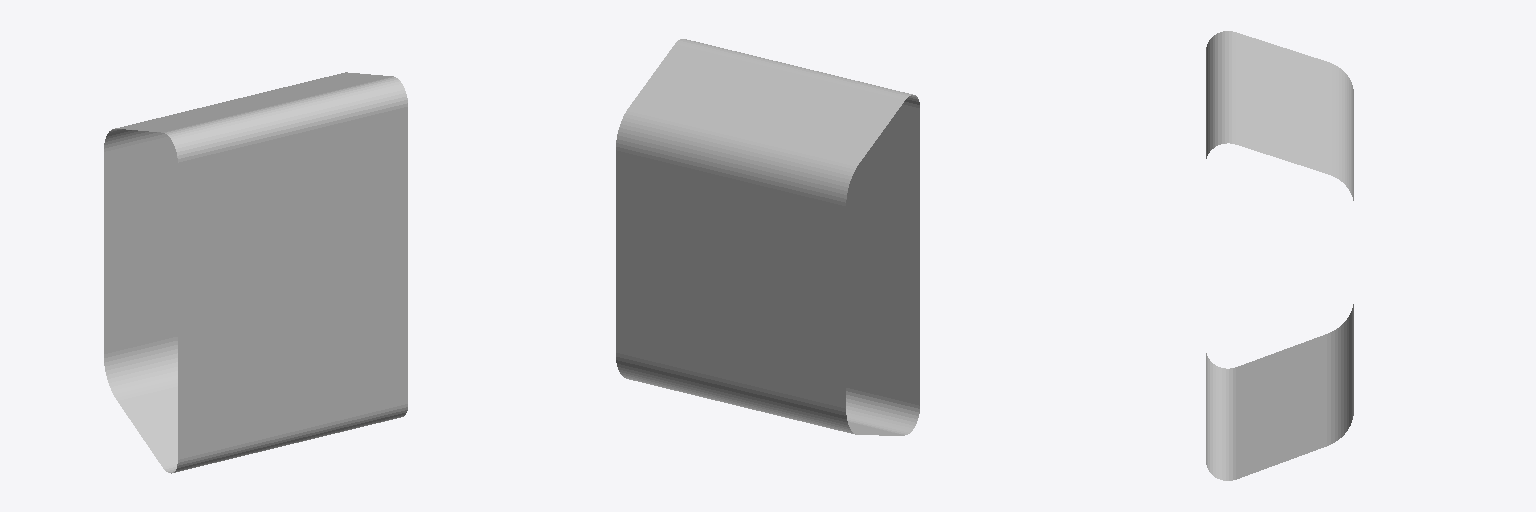
The model's file is original-371.obj.
The picture shows the model from 3 angles: view 1: azimuth 30°, elevation 25°; view 2: azimuth 150°, elevation 25°; view 3: azimuth 270°, elevation 25°; orthographic projection.
Visible parts, largest first — view 1: #ID2591; view 2: #ID2591; view 3: #ID2591.
Boxes of the visible parts, <box> form: #ID2591: <box>104,72,407,473</box>; #ID2591: <box>616,39,919,435</box>; #ID2591: <box>1206,31,1353,480</box>.
Bounding box in the file's own units: 0.0501 × 0.0701 × 0.0279.